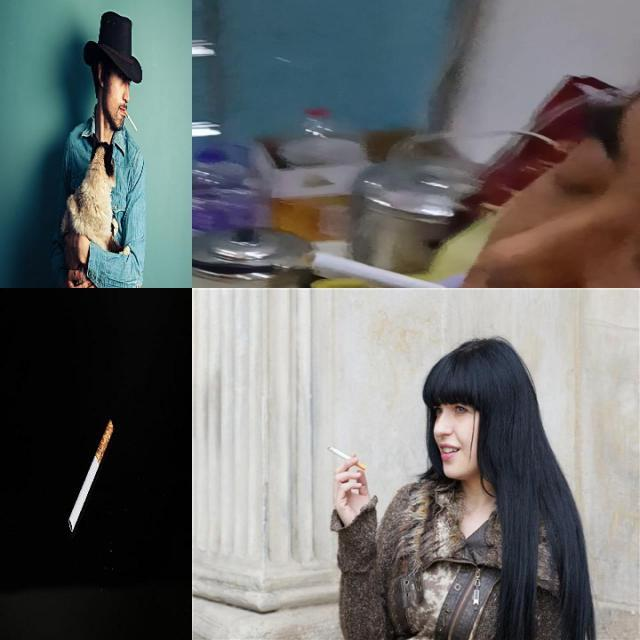cigarette: (306, 252, 474, 288), (66, 416, 114, 532), (324, 442, 368, 474), (124, 109, 138, 133)
